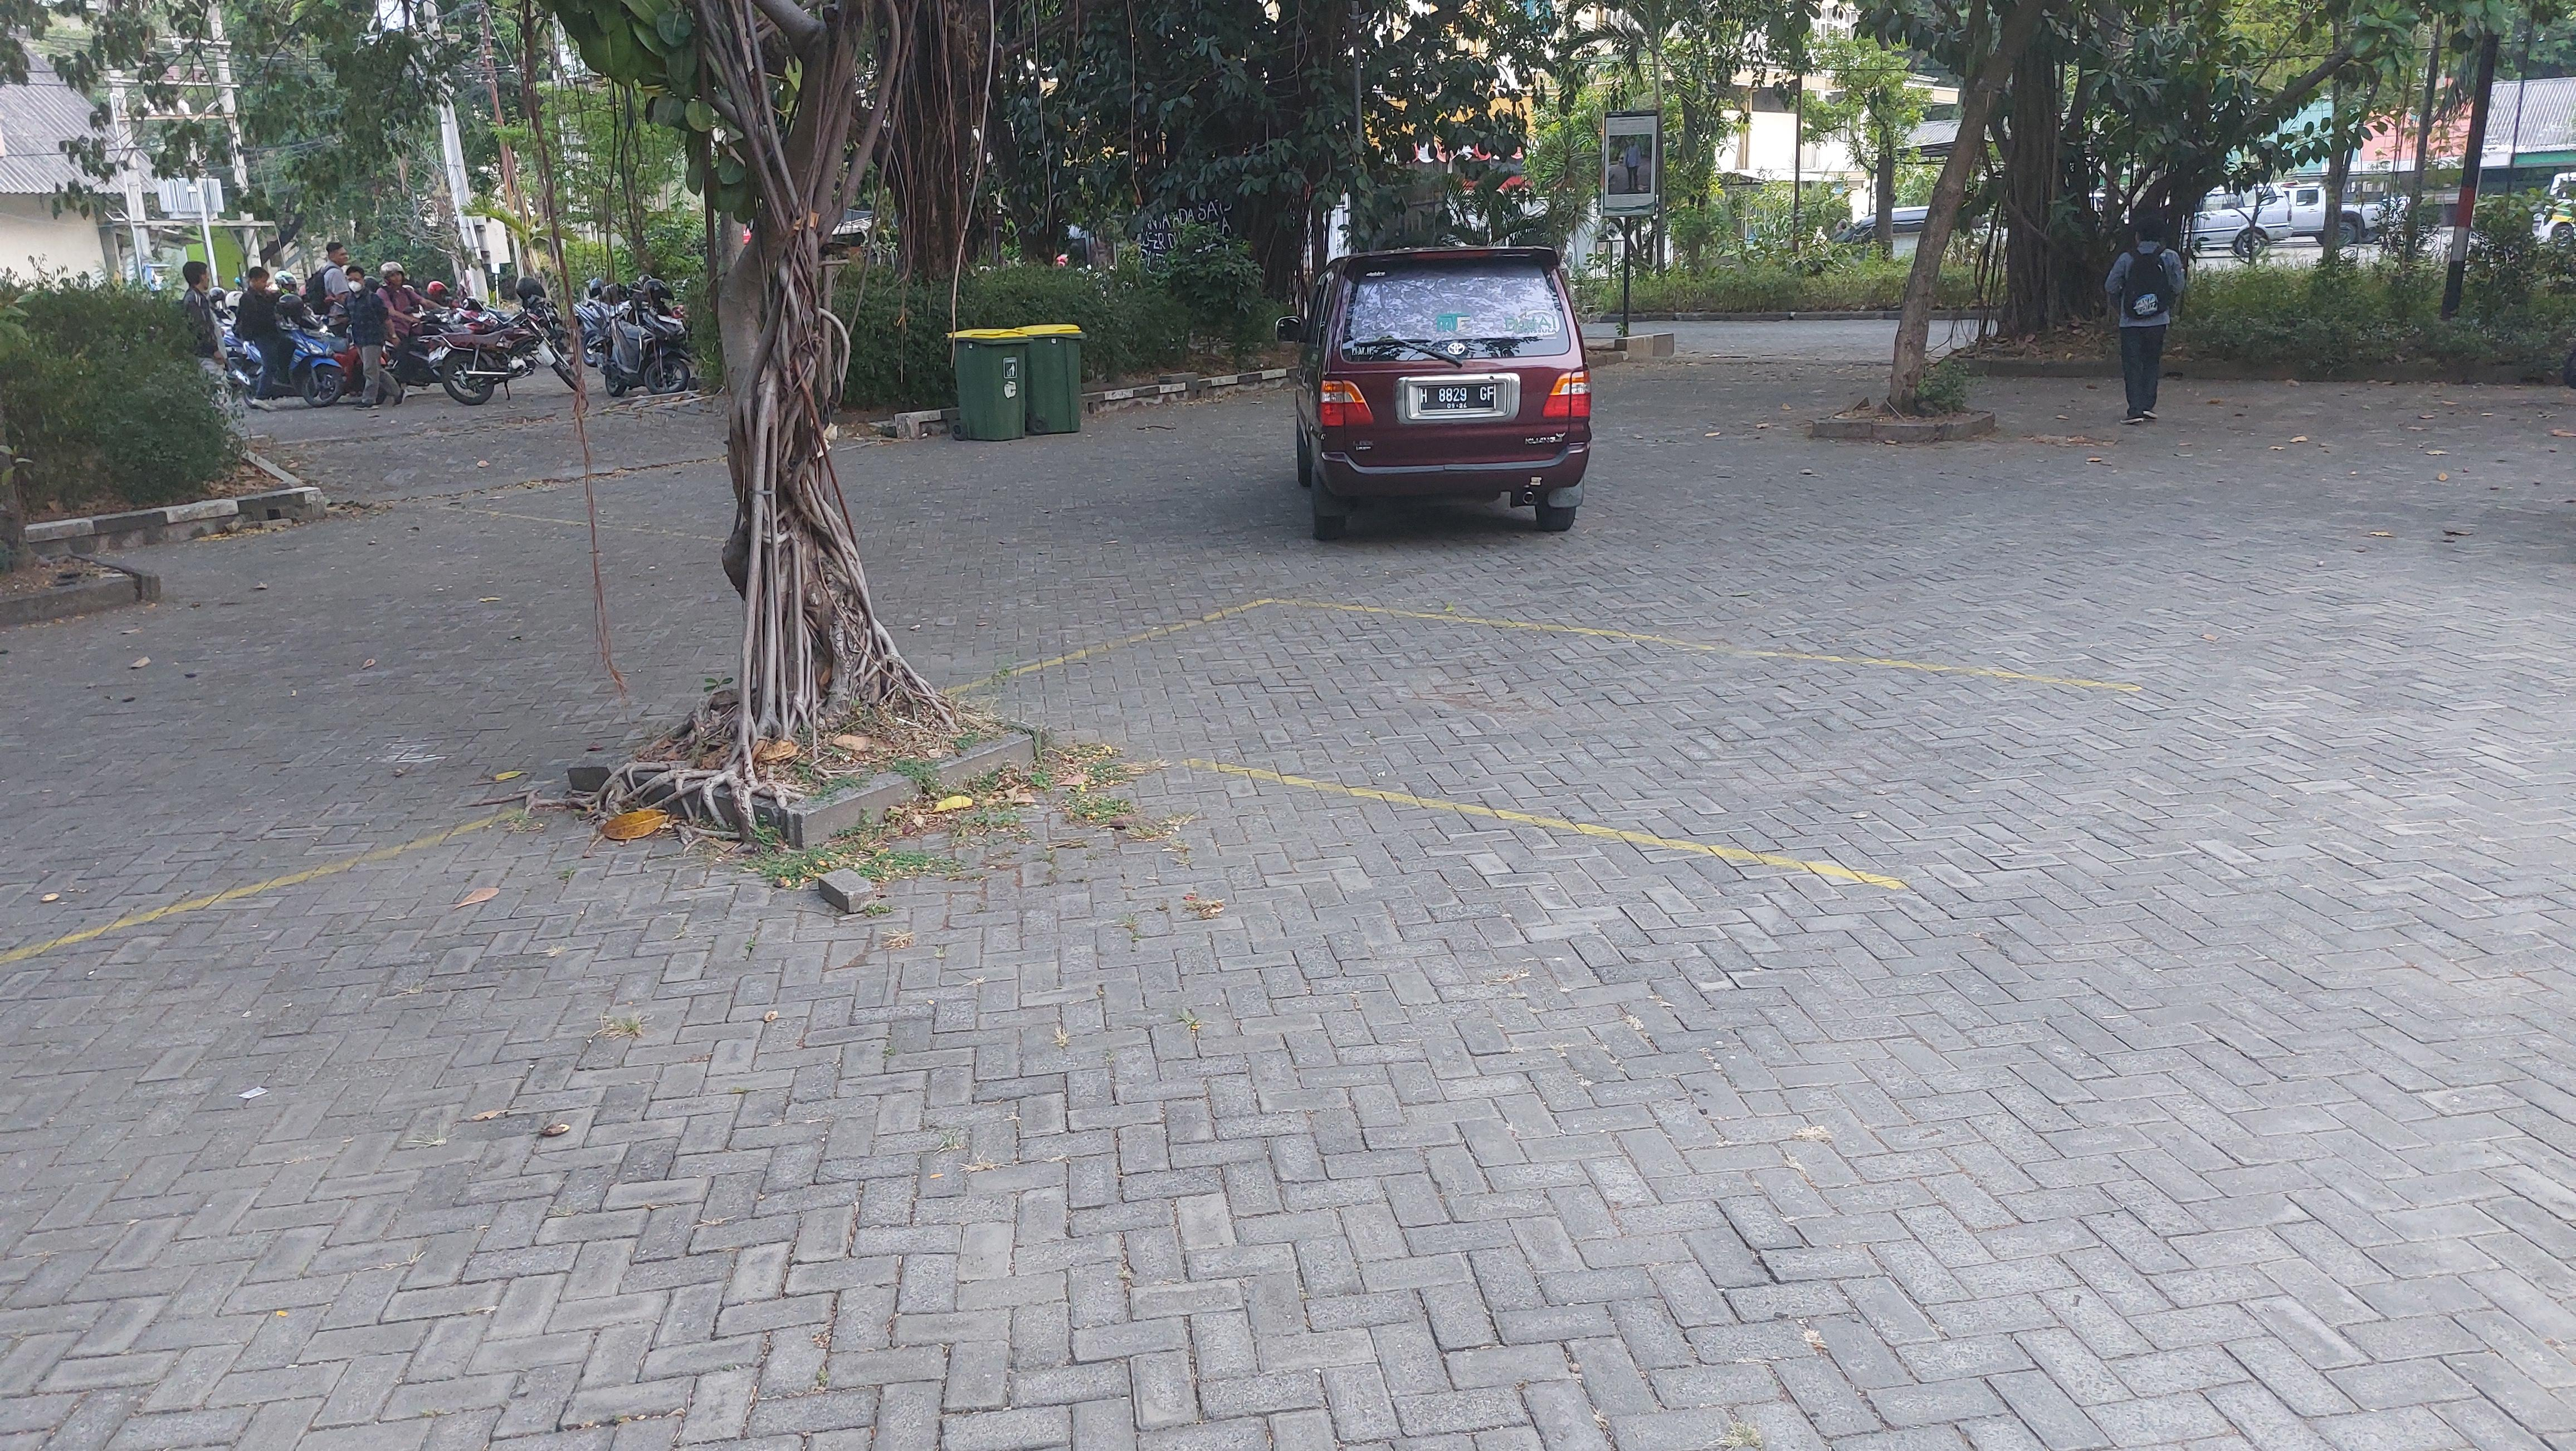empty: (930, 602, 2104, 881)
